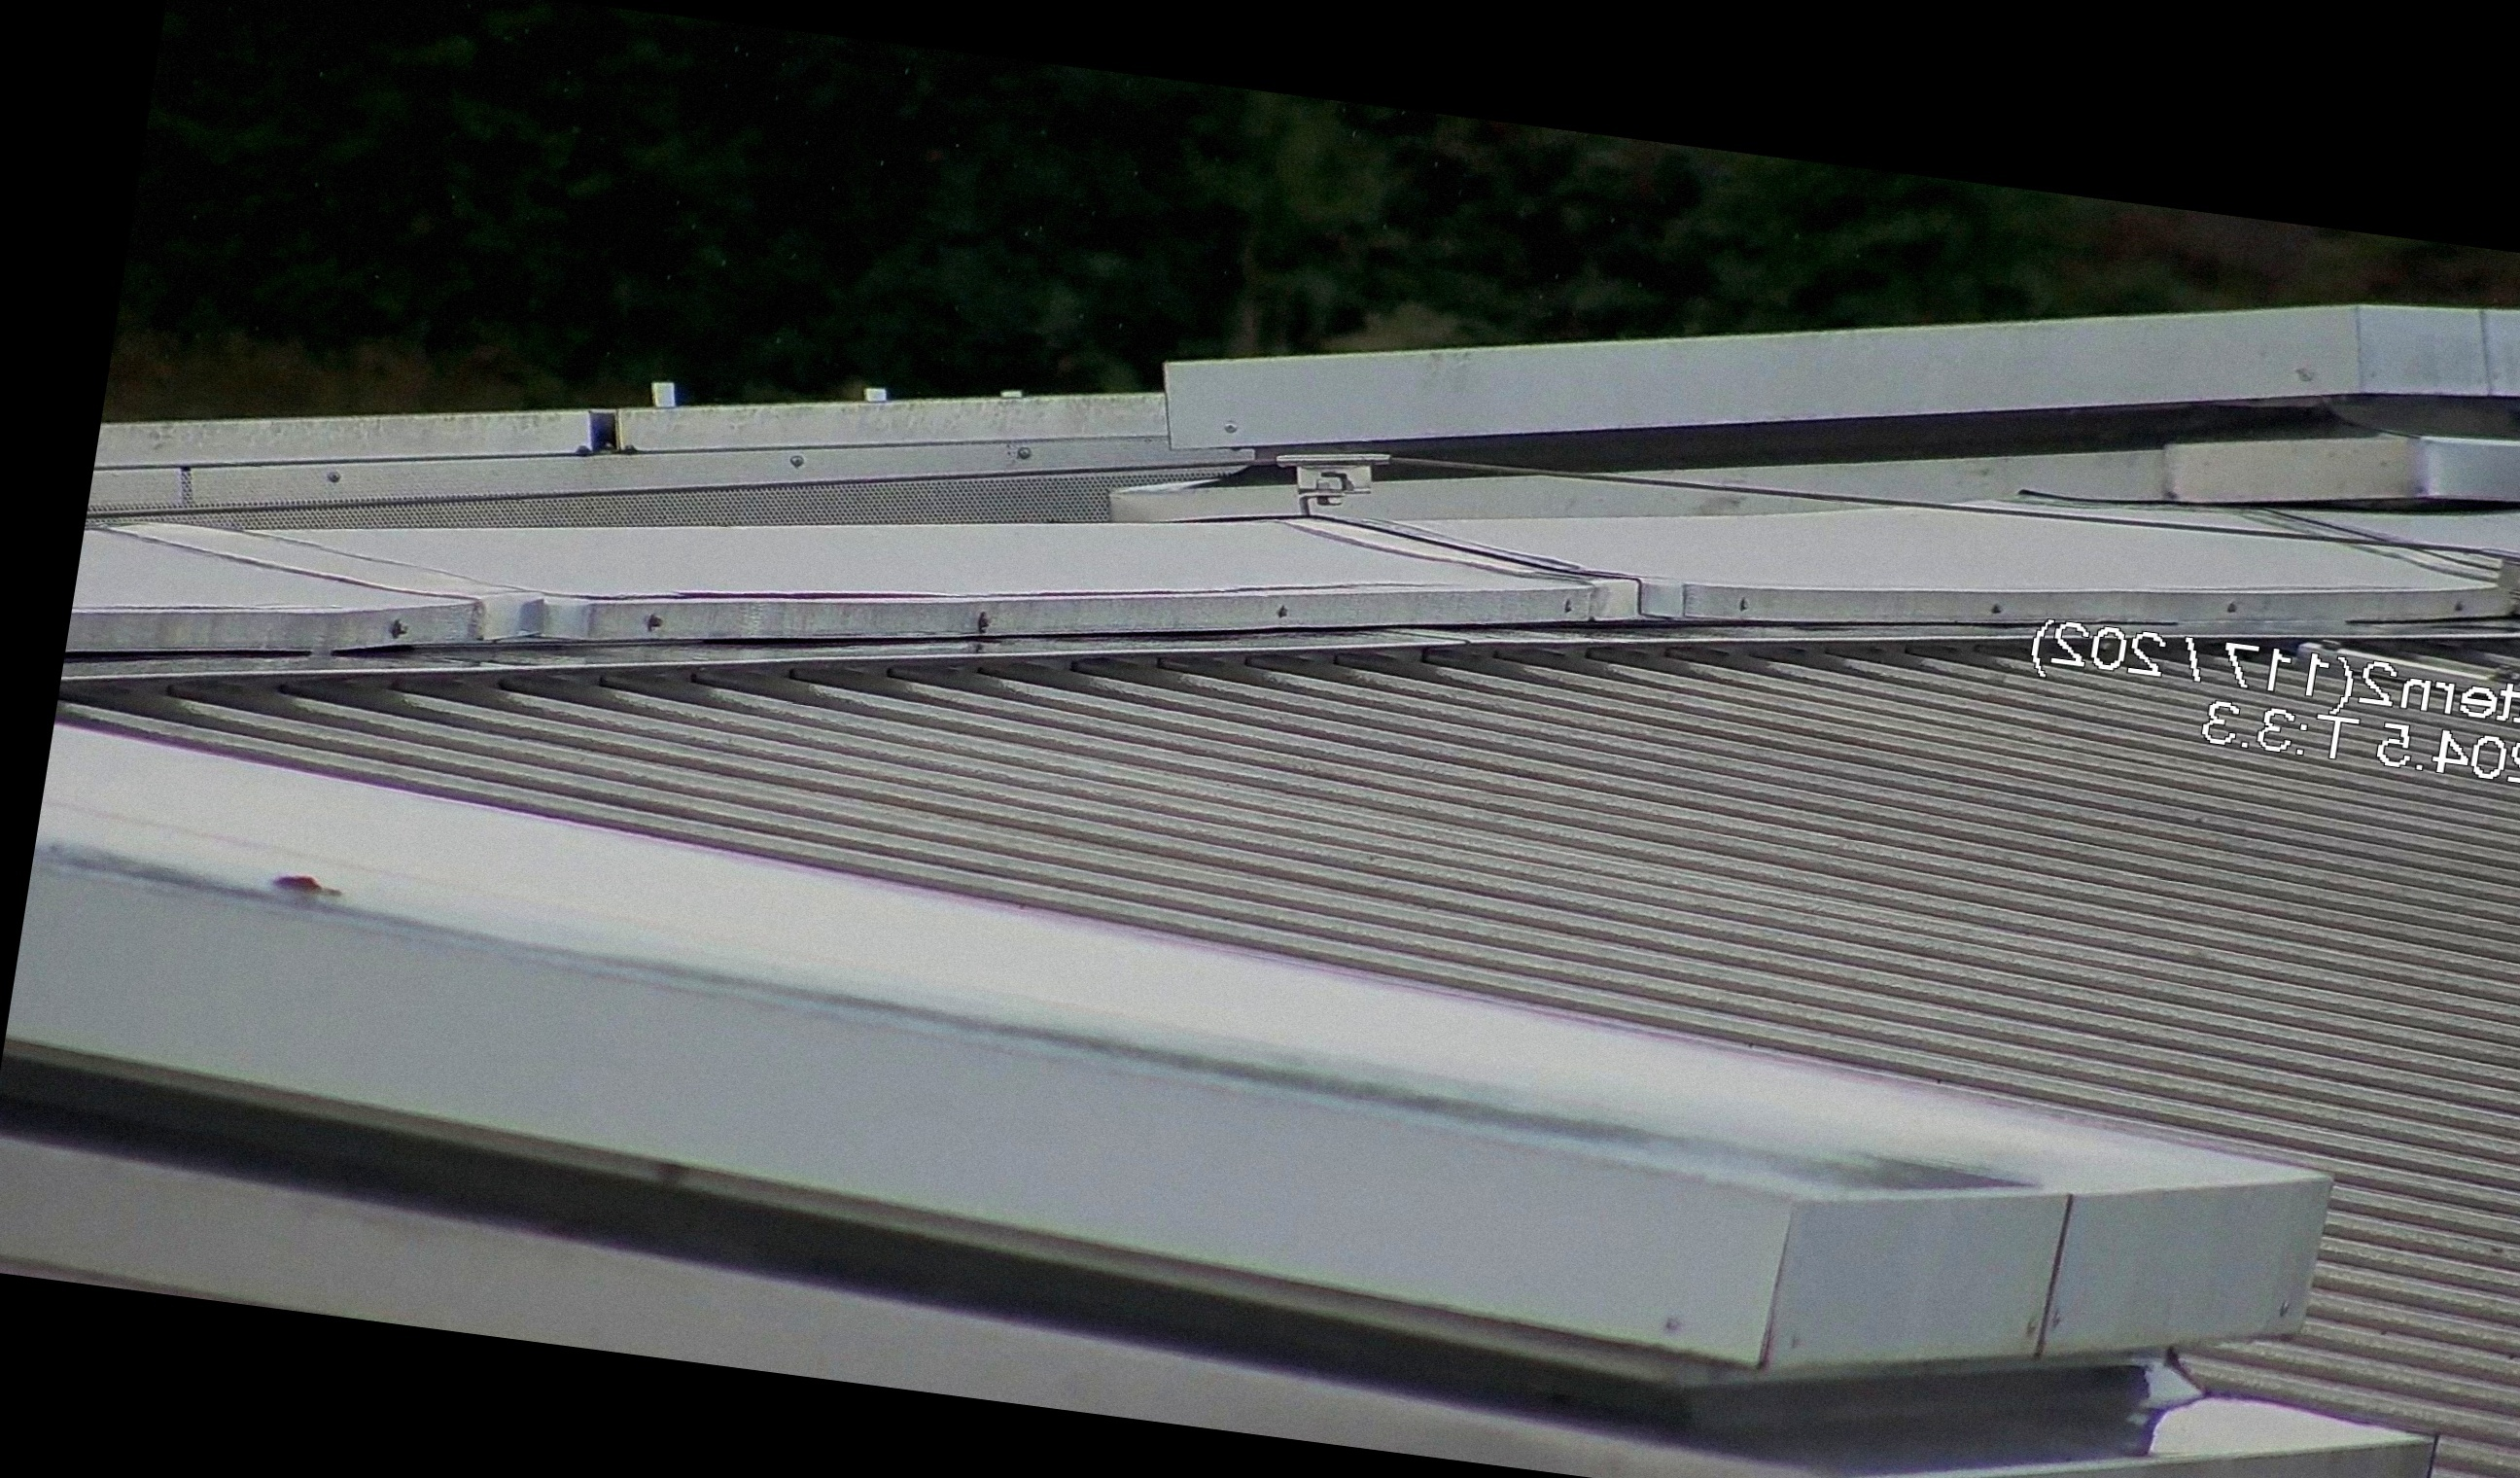Other: (0, 220, 51, 419)
